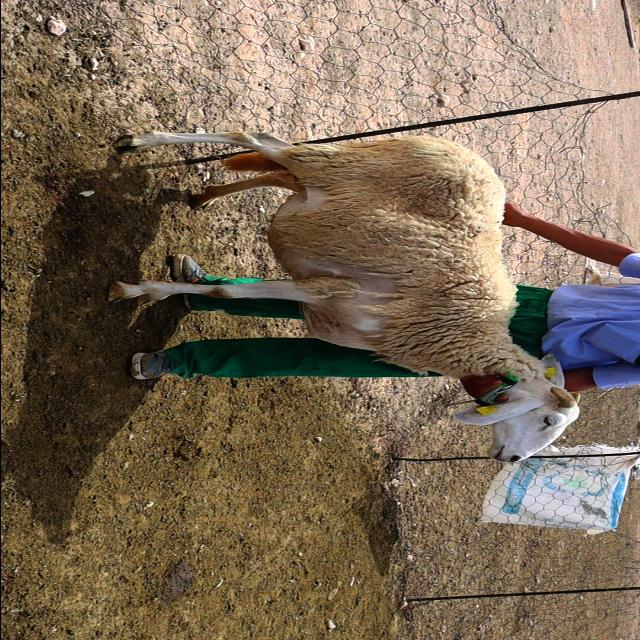Score_3: (108, 131, 578, 463)
